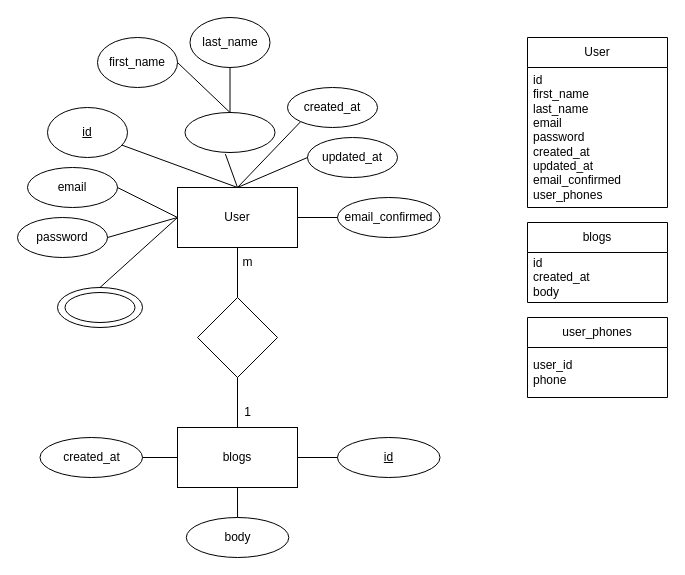
Image size: 685x575. Some labels were removed from this diagram. Here are the shapes that lost their labels. From the top down, the centre of each, then its label:
At (x=229, y=132): "name".
At (x=99, y=307): "phone".
At (x=237, y=337): "create".
